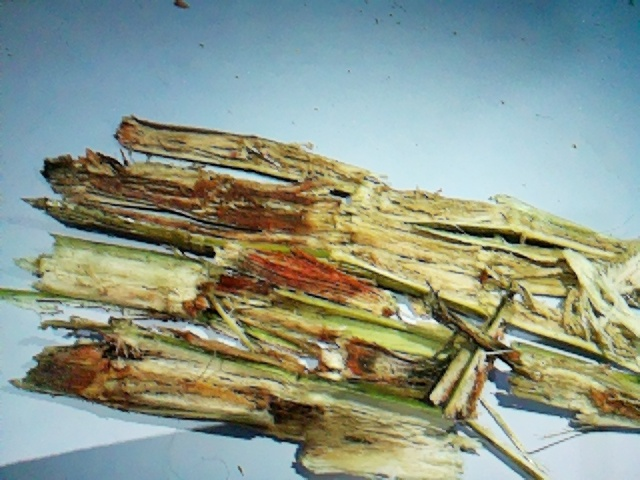Red-Rot: (26, 103, 487, 473), (496, 323, 640, 435)
